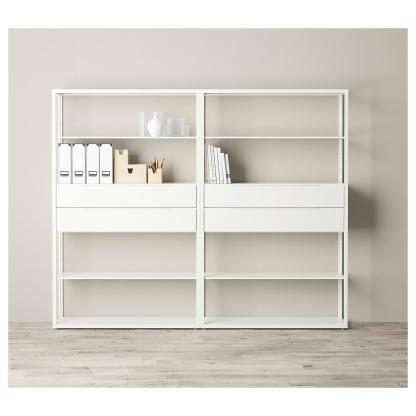lamp: (50, 86, 352, 331)
